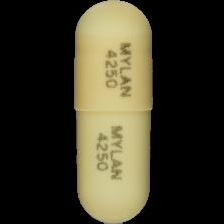24236-115: (0, 0, 224, 224)
